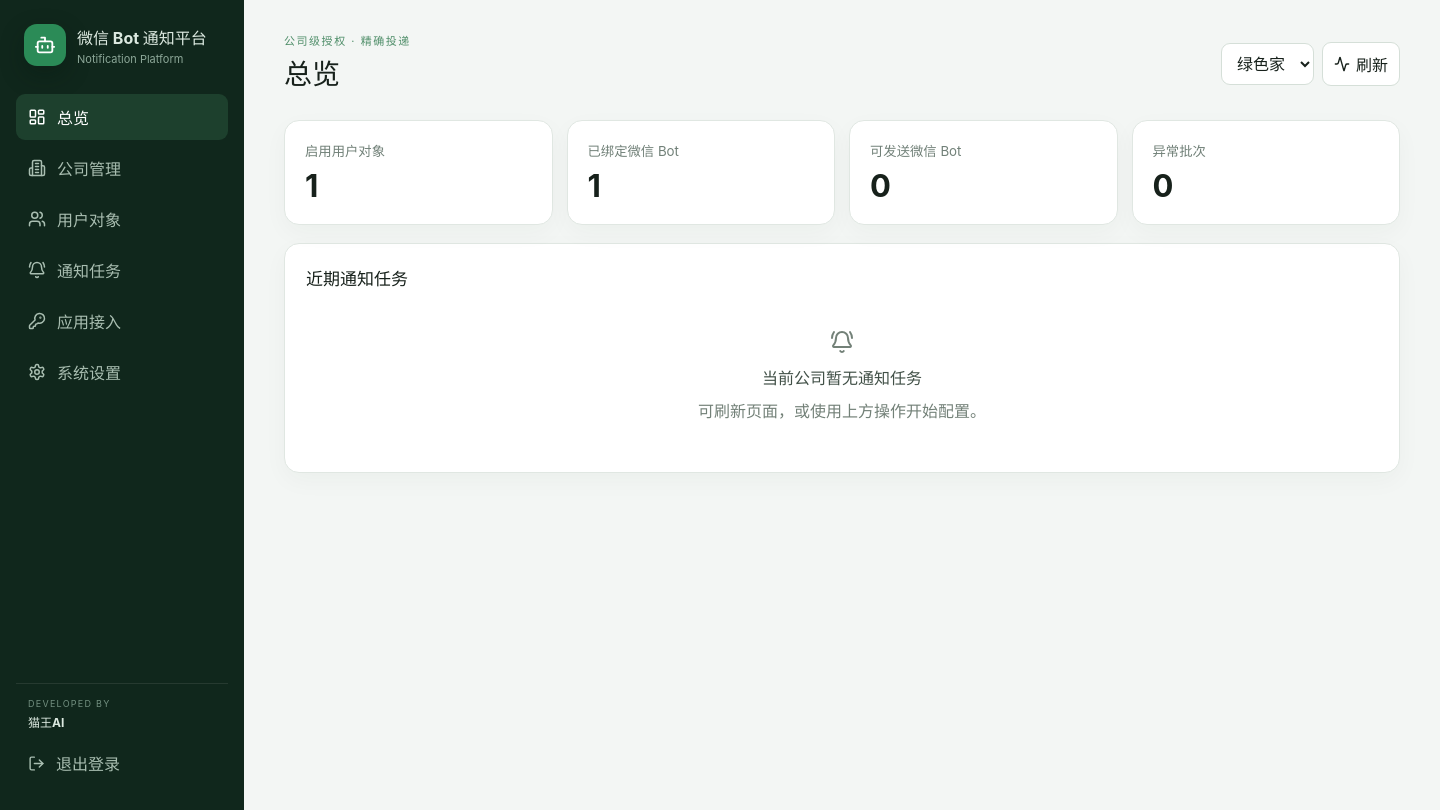
it: merged user object management › previews the current Bot fan-out without sending a notification
The image size is (1440, 810).
What coordinates should you click on to do the following:
click the button "用户对象"
I would click on:
 (122, 219)
Its box is [16, 196, 228, 242].
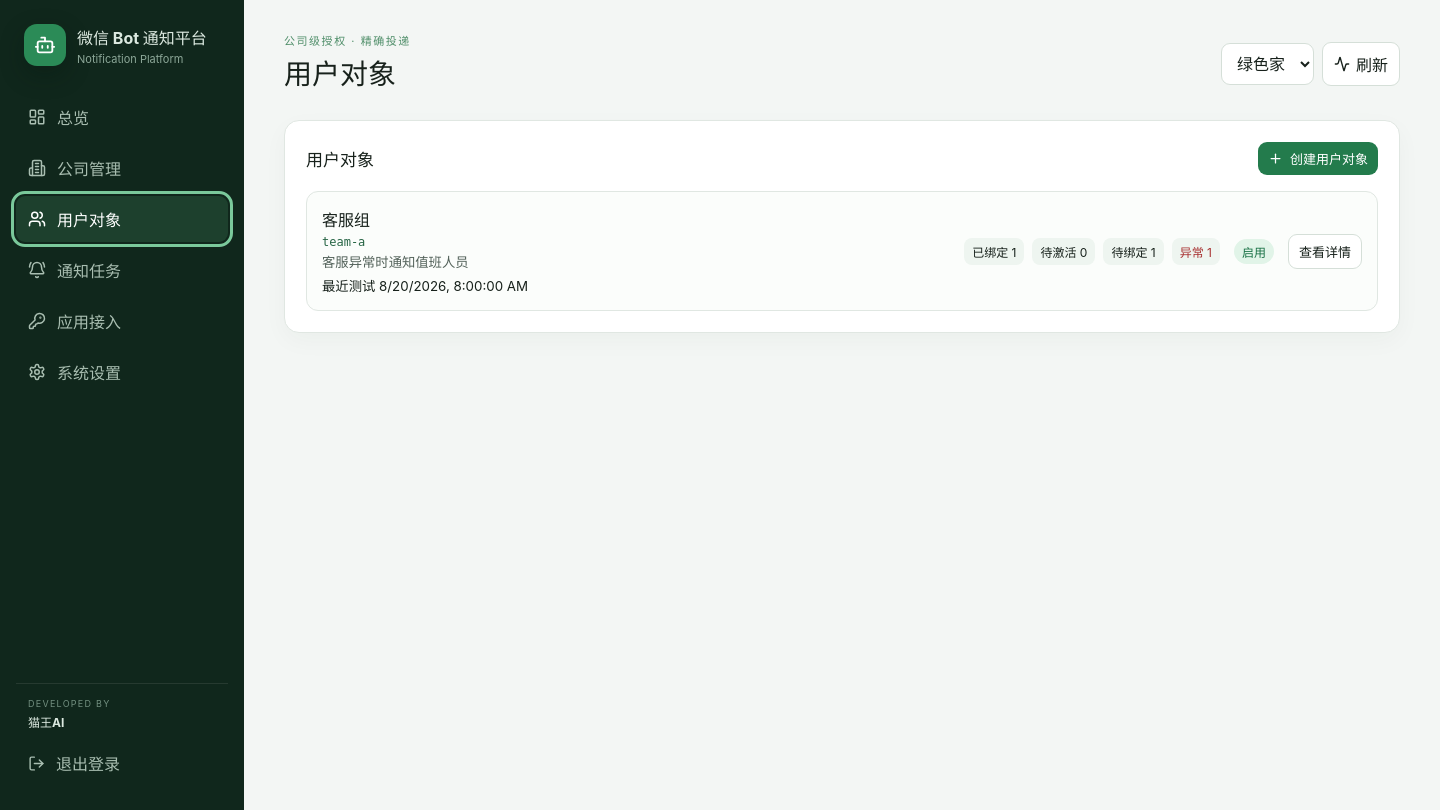
What coordinates should you click on to do the following:
click the button with aria-label "展开客服组详情"
I would click on:
 (1325, 251)
Its box is [1288, 234, 1362, 269].
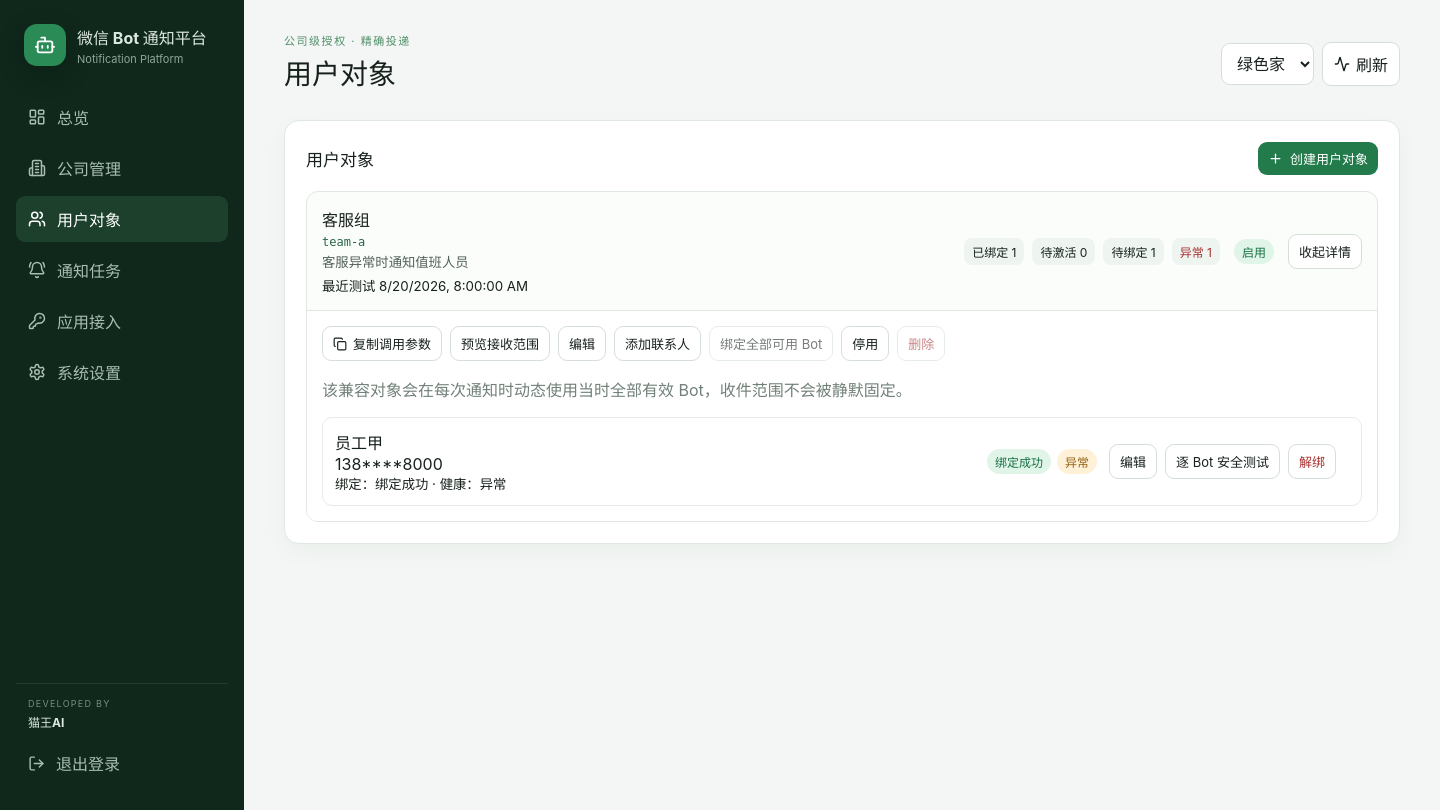
What coordinates should you click on to do the following:
click the button "预览接收范围"
I would click on:
 (500, 344)
Its box is [450, 326, 550, 361].
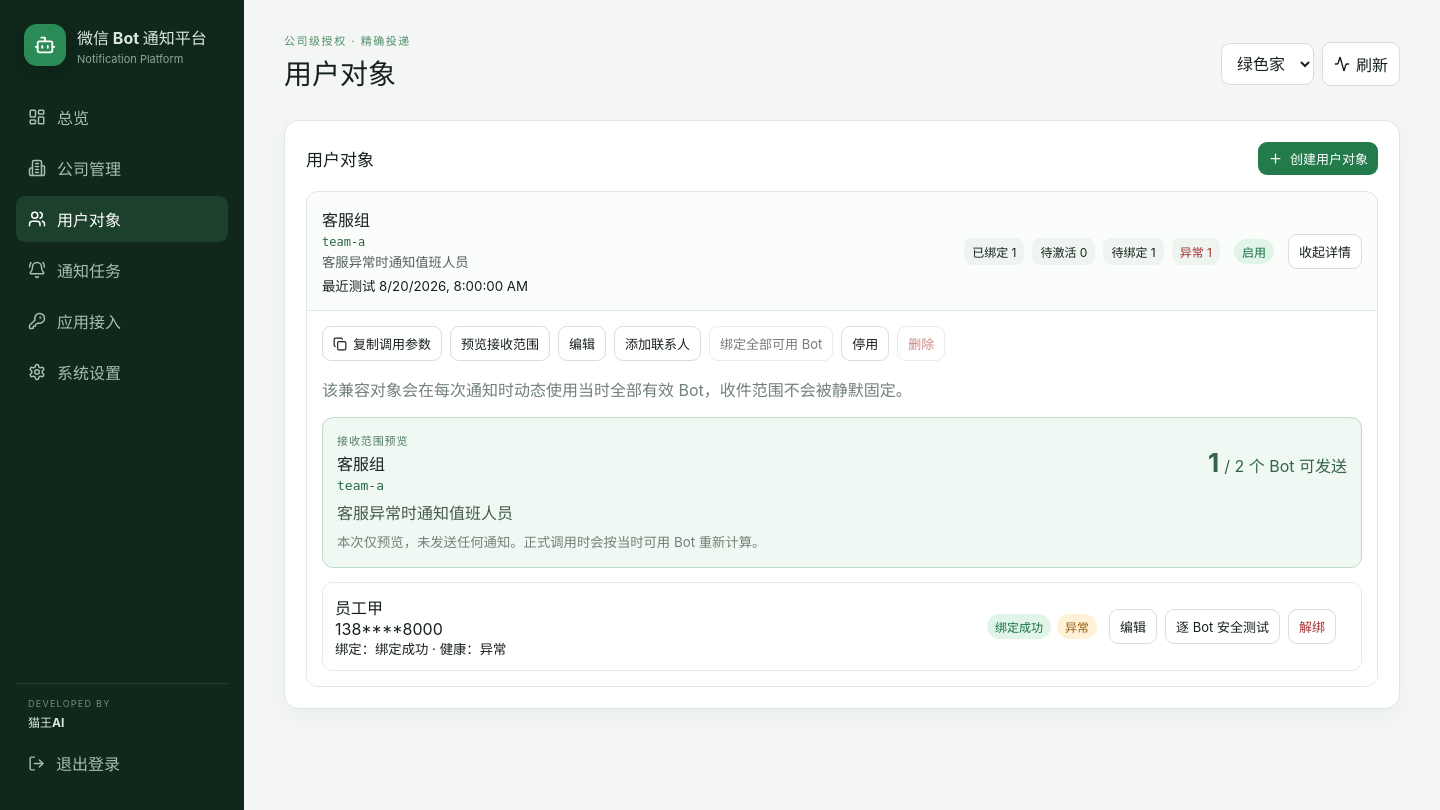
Expected: the text "1" is shown, [1208, 447, 1219, 478]
Expected: the text "/ 2 个 Bot 可发送" is shown, [1224, 453, 1347, 477]
Expected: the text "本次仅预览，未发送任何通知。正式调用时会按当时可用 Bot 重新计算。" is shown, [337, 534, 765, 550]
